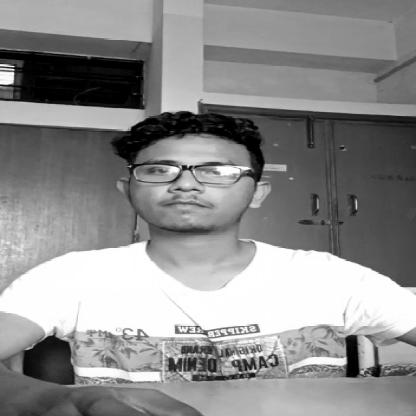Normal: (142, 137, 252, 225)
